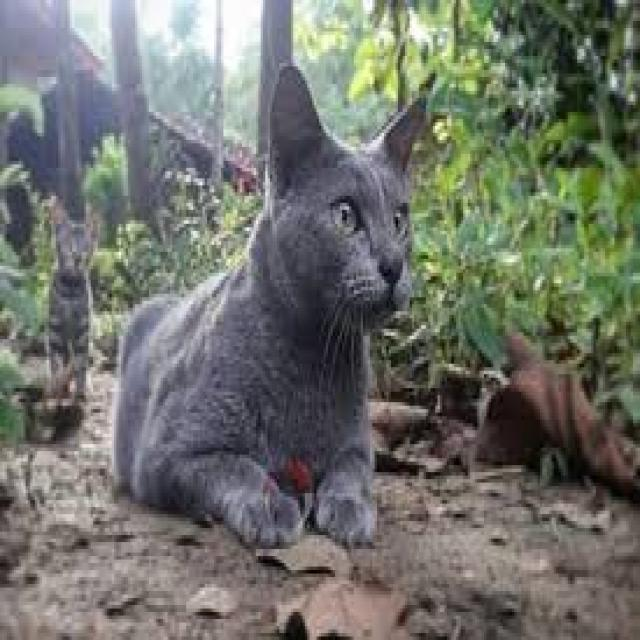Cat: (109, 60, 436, 556), (40, 192, 105, 411)
